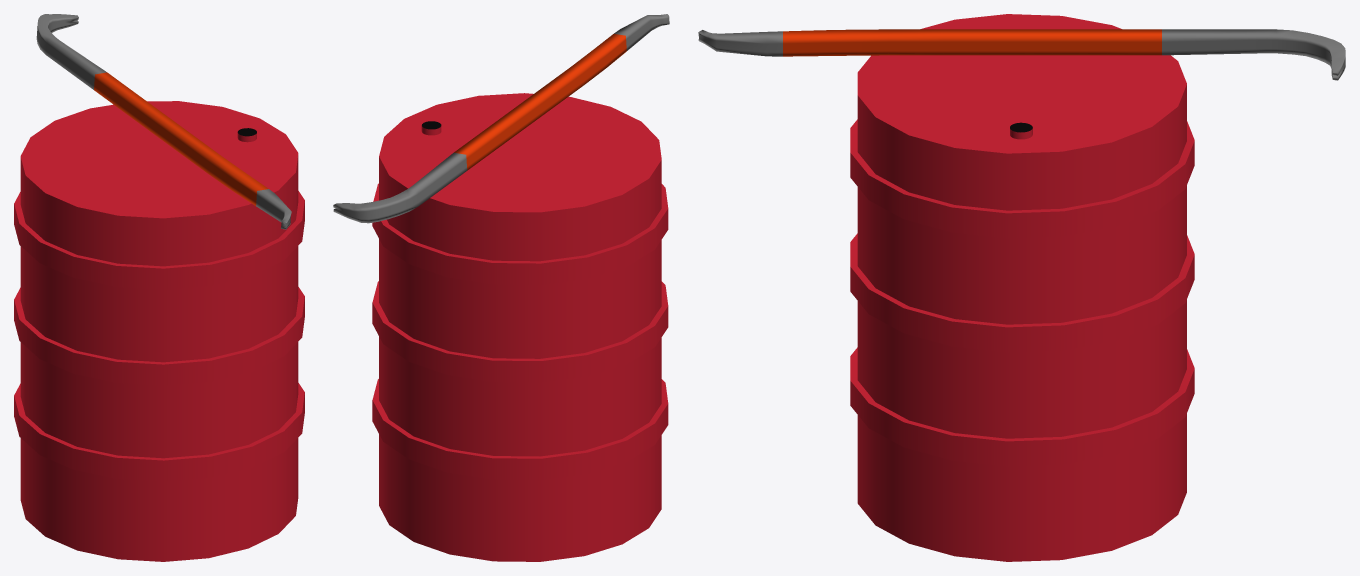
File: easter_eggs.fbx
The picture shows the model from 3 angles, left to right: view 1: azimuth 30°, elevation 25°; view 2: azimuth 150°, elevation 25°; view 3: azimuth 270°, elevation 25°; orthographic projection. The views are drawn at different scales.
Visible parts, largest first — view 1: Cylinder, Cube; view 2: Cylinder, Cube; view 3: Cylinder, Cube.
Part boxes in pixels (box(x1,y1,x2,y2)): Cylinder: box(14, 101, 304, 561); Cube: box(36, 14, 291, 229); Cylinder: box(372, 93, 668, 561); Cube: box(333, 14, 669, 223); Cylinder: box(850, 14, 1194, 561); Cube: box(698, 29, 1345, 80).
Size of the model in its own units: 141 by 206 by 263.
